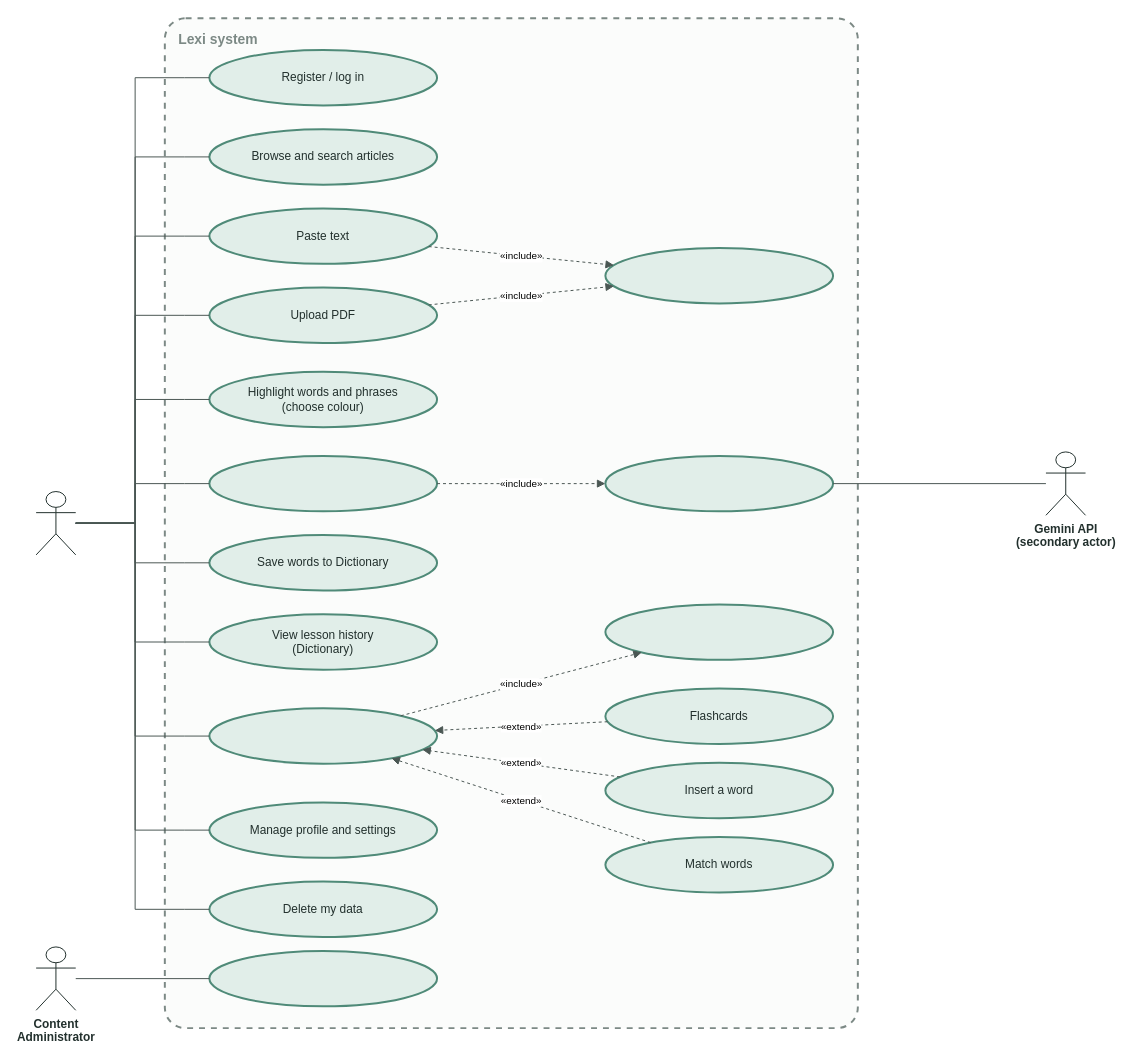
The diagram is 1133 pixels wide and 1062 high, and some of its shapes have lost their labels. Each missing label, with the centre of its shape:
"Generate AI study notes" goes at point 323,483.
"Get contextual explanations" goes at point 719,483.
"Learner" goes at point 55,523.
"Manage article library" goes at point 323,978.
"Practise vocabulary (spaced repetition)" goes at point 323,735.
"Review and clean text" goes at point 719,275.
"Select lessons to practise" goes at point 719,631.
